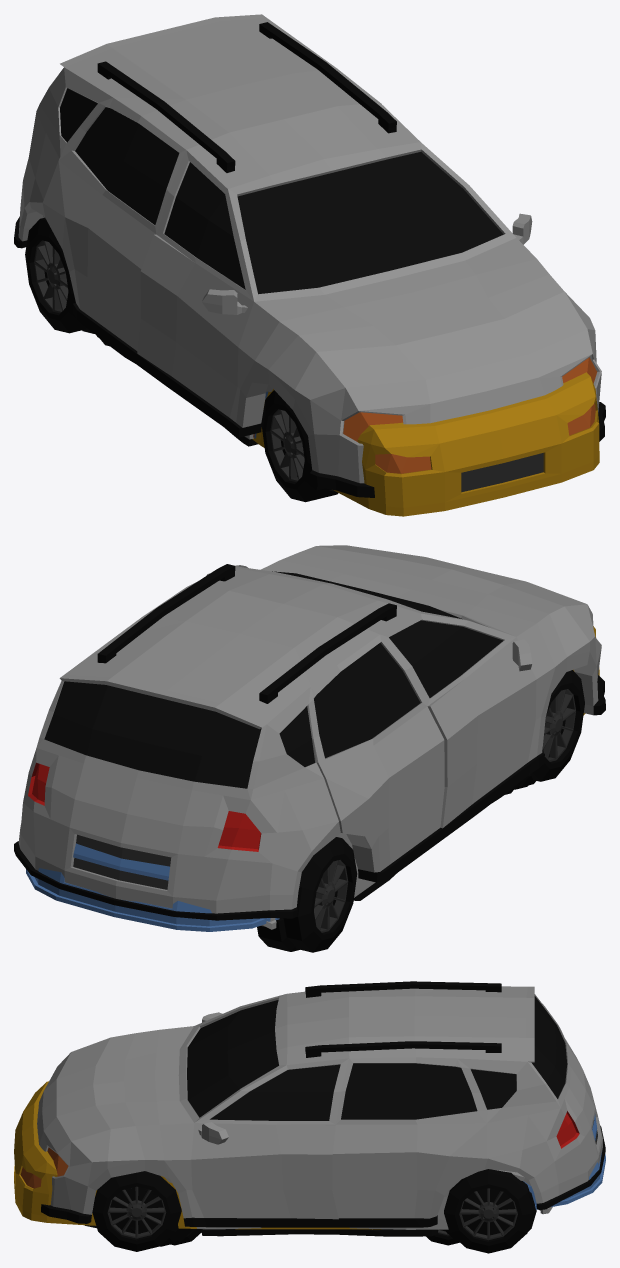
Rendered from cars-mtm71w.glb.
The picture shows the model from 3 angles, top to bottom: view 1: azimuth 30°, elevation 25°; view 2: azimuth 150°, elevation 25°; view 3: azimuth 270°, elevation 25°; orthographic projection. The views are drawn at different scales.
Visible parts, largest first — view 1: suv_body, taxi_body, suv_wheel_fr, suv_wheels_back; view 2: suv_body, suv_wheels_back, sedan_body, suv_wheel_fr, coupe_wheels_back; view 3: suv_body, suv_wheels_back, suv_wheel_fl, taxi_body, police_body, coupe_body, sedan_body.
Boxes of the visible parts, box(x1,y1,x2,y2) form: suv_body: box(14, 14, 605, 497); taxi_body: box(252, 372, 599, 516); suv_wheel_fr: box(261, 390, 338, 502); suv_wheels_back: box(25, 217, 86, 333); suv_body: box(14, 545, 605, 920); suv_wheels_back: box(283, 837, 357, 952); sedan_body: box(26, 843, 279, 931); suv_wheel_fr: box(530, 670, 584, 781); coupe_wheels_back: box(257, 918, 299, 951); suv_body: box(37, 981, 605, 1227); suv_wheels_back: box(444, 1169, 533, 1253); suv_wheel_fl: box(92, 1171, 181, 1251); taxi_body: box(14, 1081, 380, 1229); police_body: box(85, 1225, 437, 1236); coupe_body: box(164, 1168, 552, 1229); sedan_body: box(523, 1114, 605, 1209).
Size of the model in its own units: 2.11 by 1.54 by 4.32.
